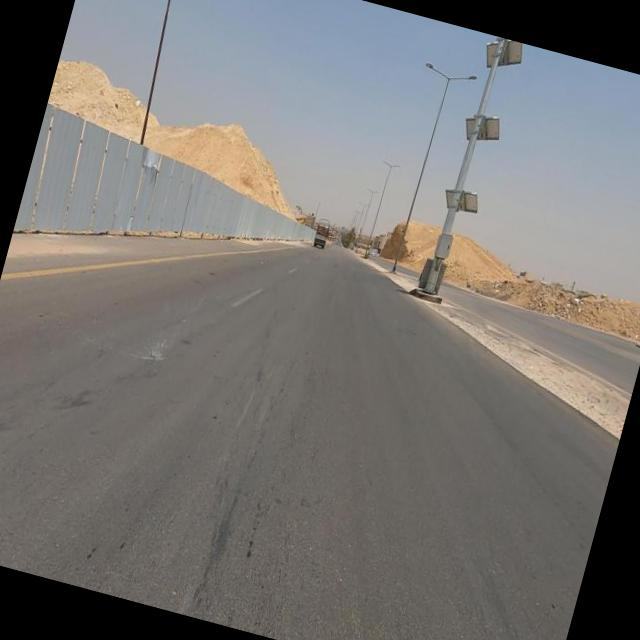debris: (562, 275, 600, 325)
